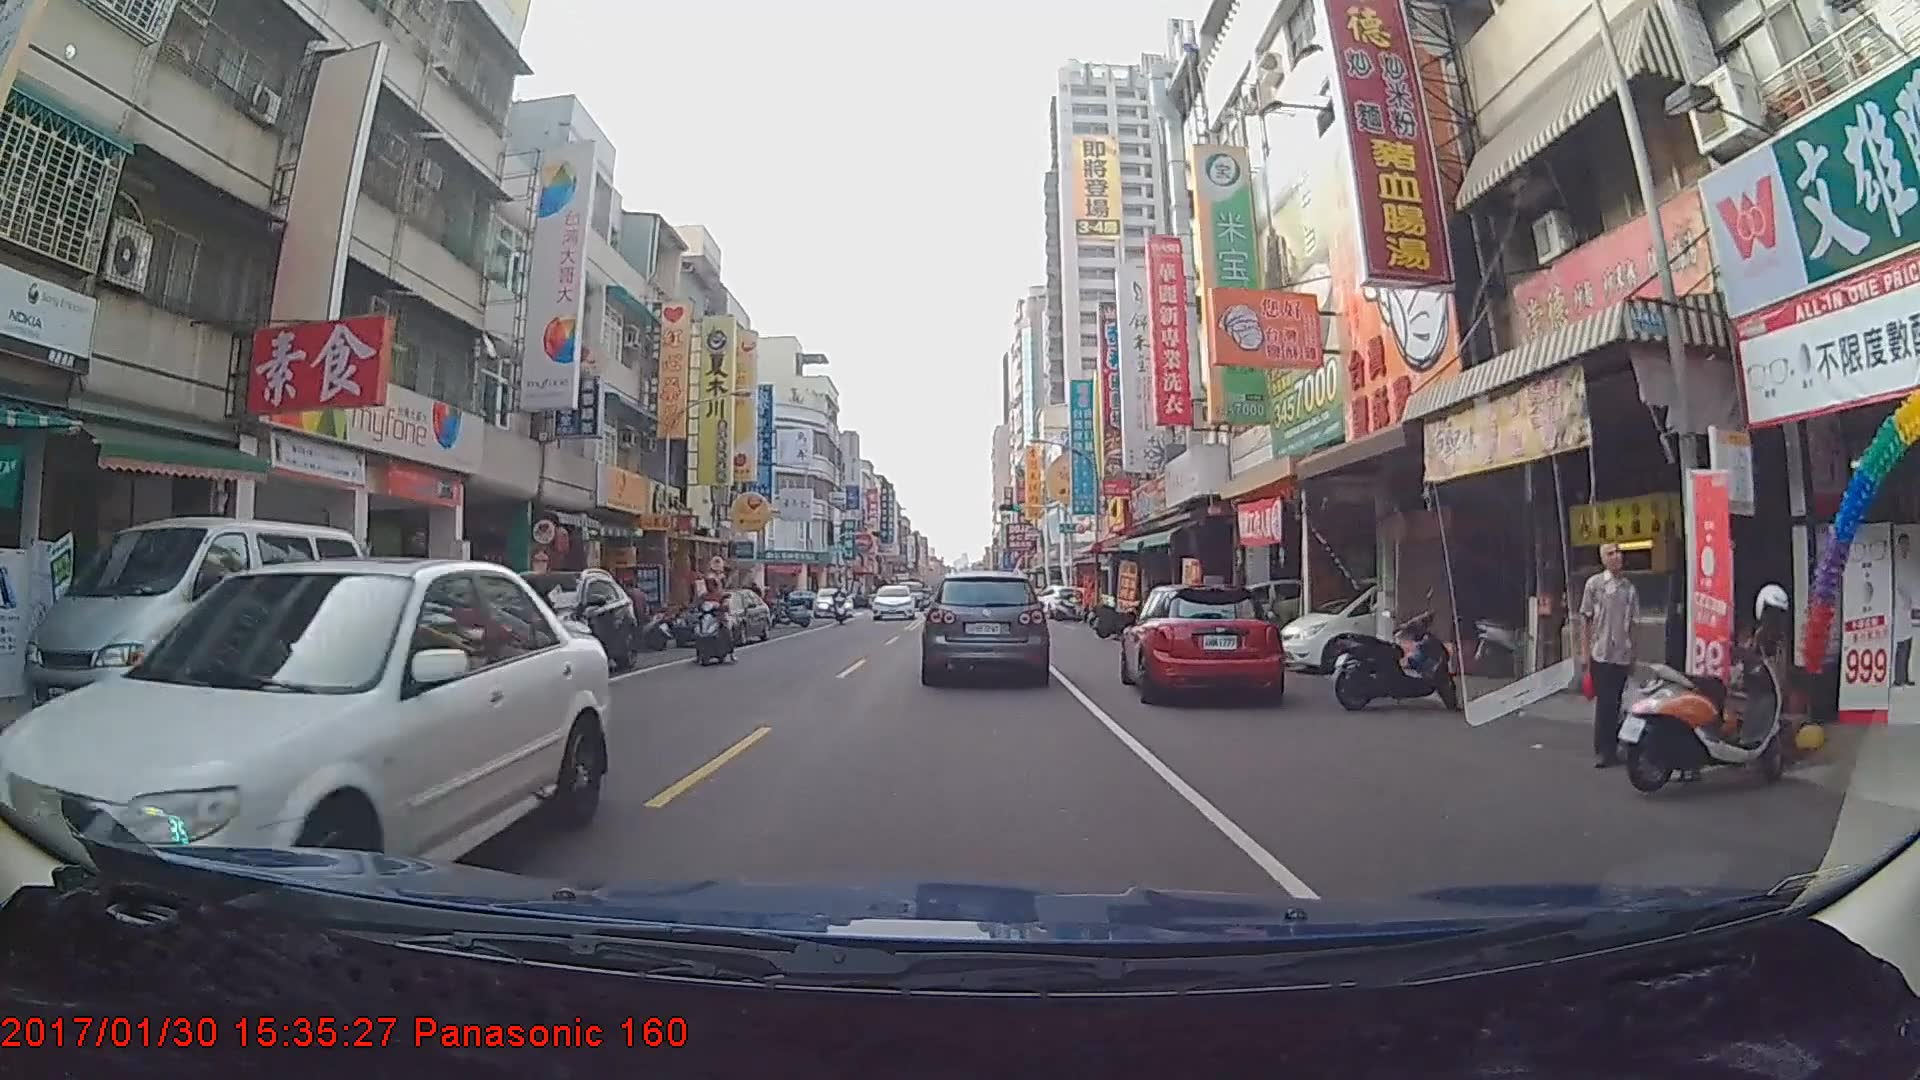pedestrian: (1579, 536, 1646, 773)
rider: (694, 575, 739, 663)
vehicle: (0, 554, 612, 940), (21, 514, 371, 757), (460, 568, 637, 684), (1123, 579, 1285, 705), (923, 569, 1048, 682), (671, 588, 770, 648), (868, 581, 914, 618), (811, 585, 852, 617)
